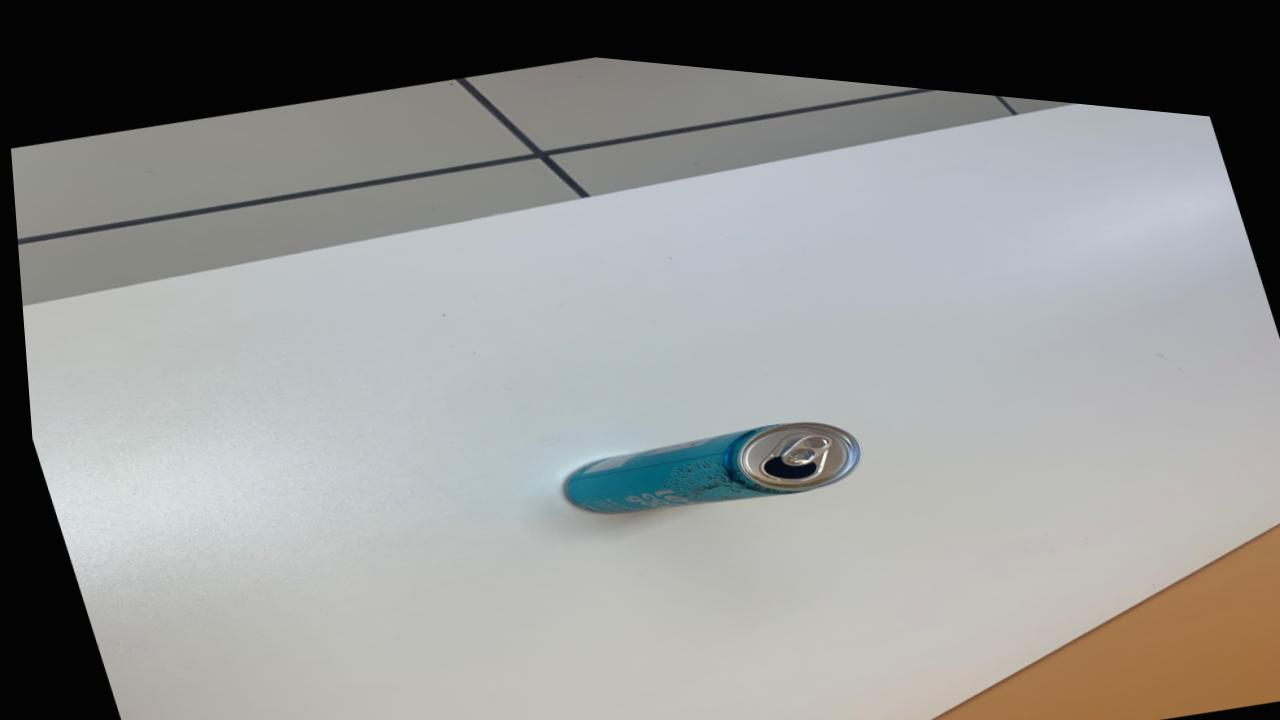Tea-Drinks: (558, 406, 856, 502)
